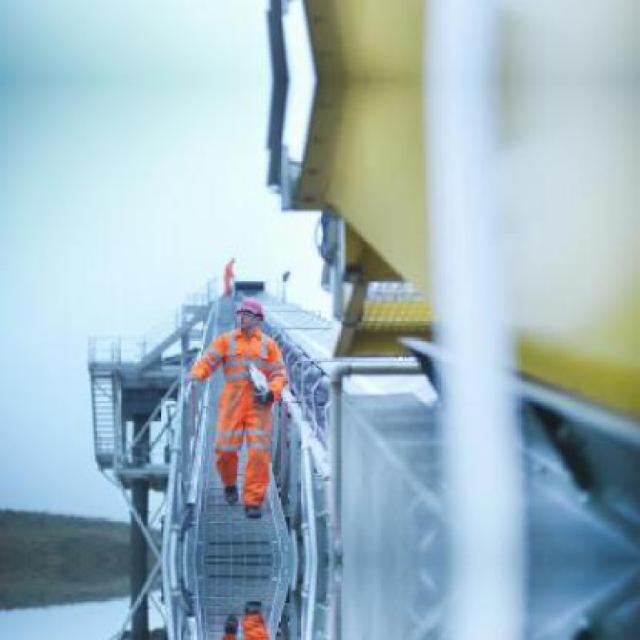Reflective-Jacket: (209, 331, 285, 474)
Safety-Helmet: (231, 294, 271, 323)
